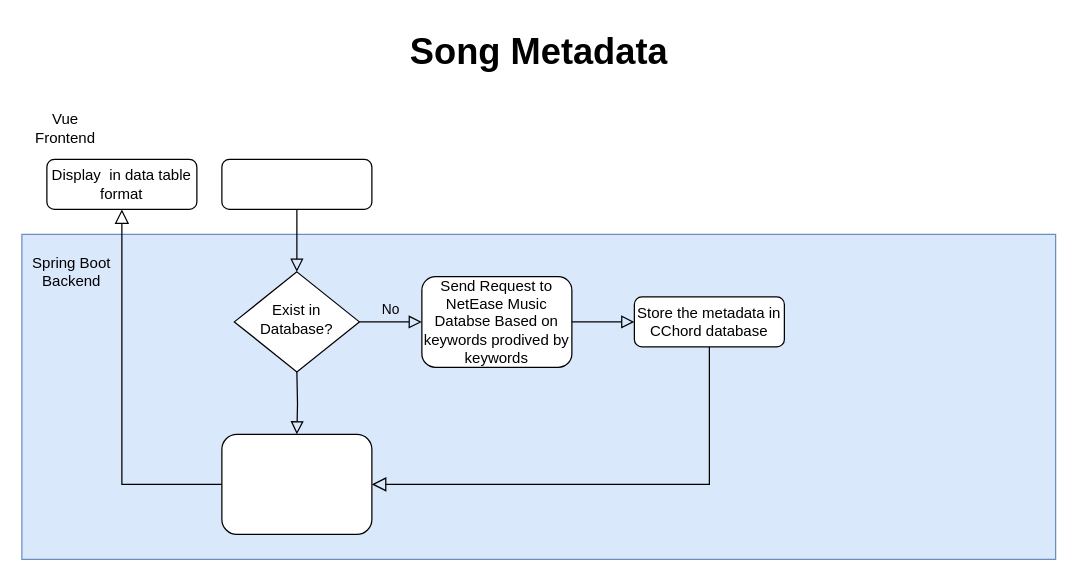
This 1078x581 diagram has some shape labels left out. The shapes that lost their labels are listed below. From the top down, each one's centre as x and y in pixels, then its label:
At (296,183): "Song Metadata Query Request".
At (296,483): "Send the metadata to the frontend in JSON format".
